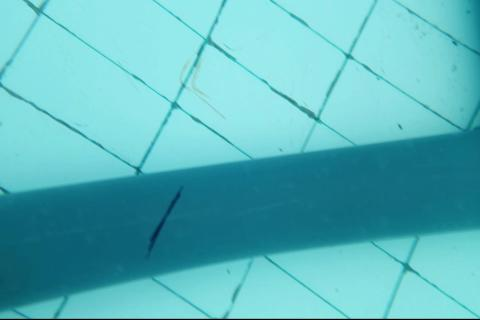keretakan: (146, 185, 184, 257)
